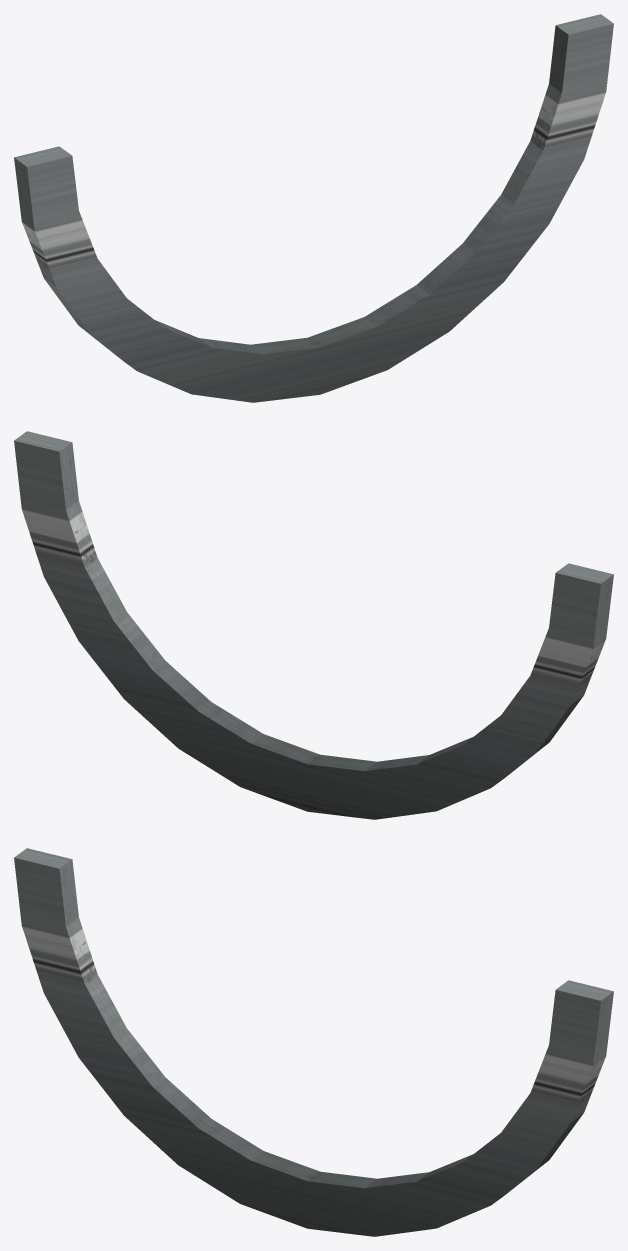
3 views of the same model, one above another, from view 1: azimuth 30°, elevation 25°; view 2: azimuth 150°, elevation 25°; view 3: azimuth 330°, elevation 25° (orthographic).
Visible parts, largest first — view 1: B_ring; view 2: B_ring; view 3: B_ring.
Part boxes in pixels (x1,y1,x2,y2): B_ring: (14, 14, 613, 402); B_ring: (14, 431, 613, 819); B_ring: (14, 848, 613, 1236).
Size of the model in its own units: 400 by 195 by 15.37.
Materials: 1 (1 with a texture image).
